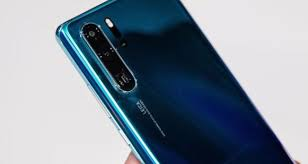huawei: (53, 1, 294, 164)
